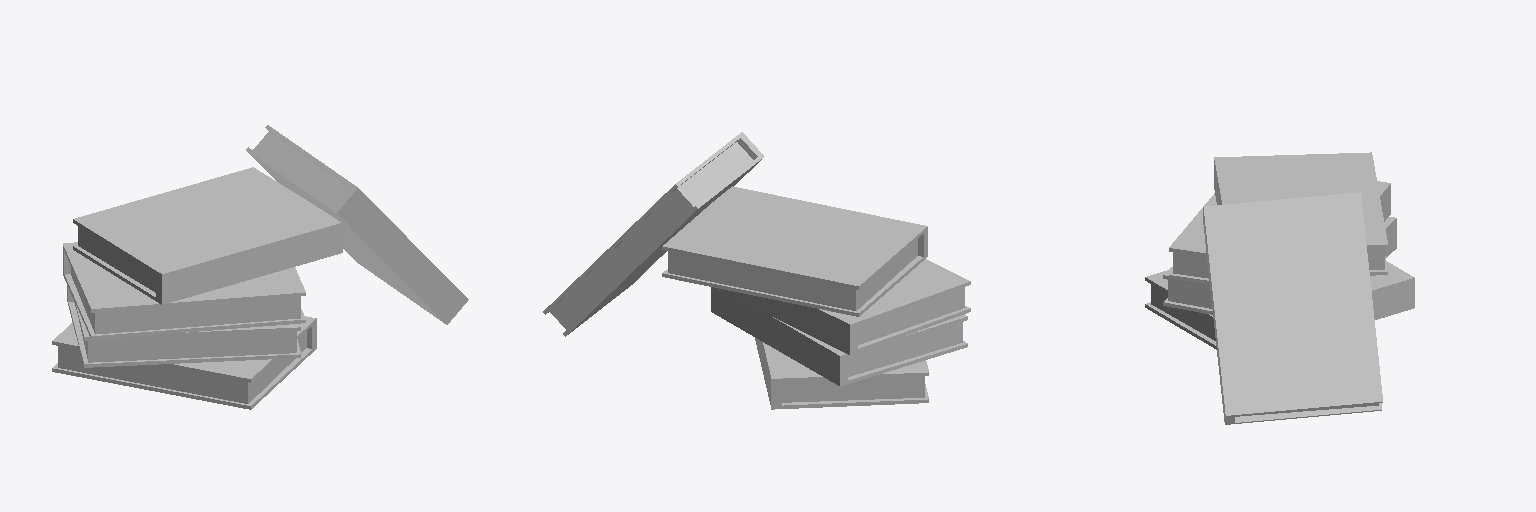
The model's file is book1.obj.
The picture shows the model from 3 angles: view 1: azimuth 30°, elevation 25°; view 2: azimuth 150°, elevation 25°; view 3: azimuth 270°, elevation 25°; orthographic projection.
Parts seen in each view (by area): view 1: Cube.026; view 2: Cube.026; view 3: Cube.026.
Boxes of the visible parts, <box> form: Cube.026: <box>52,125,468,409</box>; Cube.026: <box>543,132,970,409</box>; Cube.026: <box>1145,152,1414,424</box>.
Size of the model in its own units: 2.85 by 1.31 by 1.79.